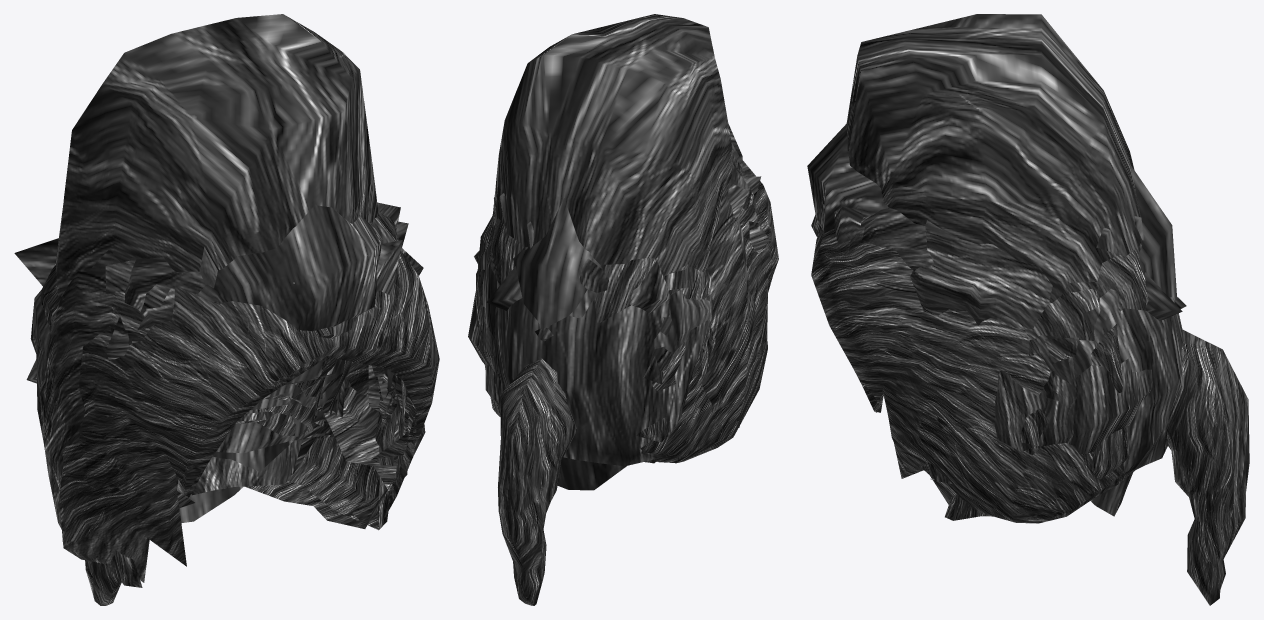
File: MaleHairPlaceable.dae
3 renders of one model, left to right at view 1: azimuth 30°, elevation 25°; view 2: azimuth 150°, elevation 25°; view 3: azimuth 270°, elevation 25°, orthographic. The views are drawn at different scales.
Visible parts, largest first — view 1: HairType8, HairType3, HairType15, HairType2, HairType1, HairType7, HairType16, HairType4, HairType5, HairType, HairType6, HairType11 (+1 smaller); view 2: HairType8, HairType4, HairType, HairType3, HairType1, HairType15, HairType16, HairType7, HairType2, HairType5, HairType6; view 3: HairType8, HairType2, HairType, HairType16, HairType1, HairType4, HairType15, HairType3, HairType7, HairType5.
Part boxes in pixels (x1,y1,x2,y2): HairType8: (56,14,378,423); HairType3: (40,286,399,582); HairType15: (179,204,392,523); HairType2: (40,250,439,587); HairType1: (44,248,407,490); HairType7: (30,212,398,453); HairType16: (14,202,423,398); HairType4: (36,324,397,496); HairType5: (39,356,431,459); HairType: (55,261,393,605); HairType6: (36,355,398,508); HairType11: (214,301,395,440); HairType8: (493,14,735,275); HairType4: (478,241,714,466); HairType: (487,212,687,605); HairType3: (481,161,778,463); HairType1: (468,195,757,412); HairType15: (513,124,742,490); HairType16: (474,143,769,383); HairType7: (569,158,756,353); HairType2: (485,266,739,463); HairType5: (476,268,716,378); HairType6: (477,237,772,371); HairType8: (846,14,1142,302); HairType2: (811,229,1134,523); HairType: (1065,248,1249,605); HairType16: (815,206,1186,364); HairType1: (921,243,1152,484); HairType4: (1025,289,1182,474); HairType15: (807,124,1177,516); HairType3: (811,214,1129,520); HairType7: (815,207,933,271); HairType5: (859,323,1123,412).
Bounding box in the file's own units: 0.2174 × 0.4004 × 0.2852.
